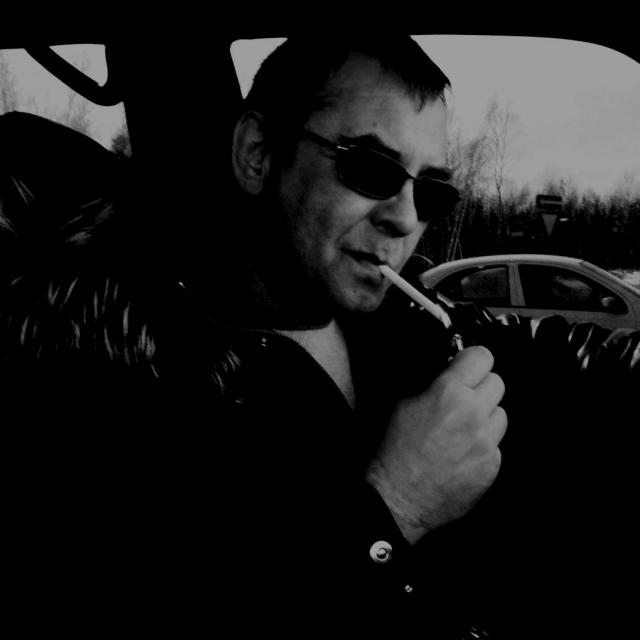Cigarette: (369, 262, 453, 332)
